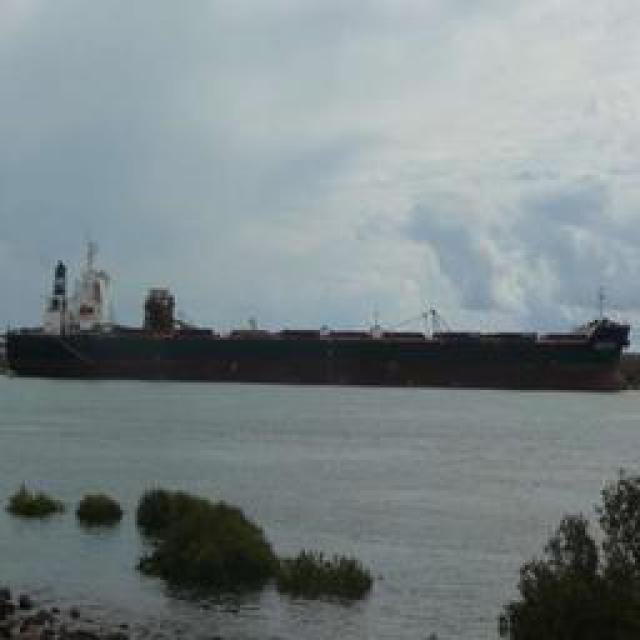Ship: (11, 316, 631, 391)
